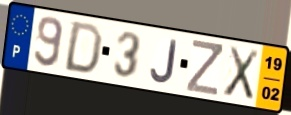3: (112, 30, 143, 80)
9: (33, 15, 64, 70)
D: (61, 19, 105, 75)
J: (149, 38, 179, 86)
X: (221, 45, 261, 103)
Z: (184, 37, 224, 98)
